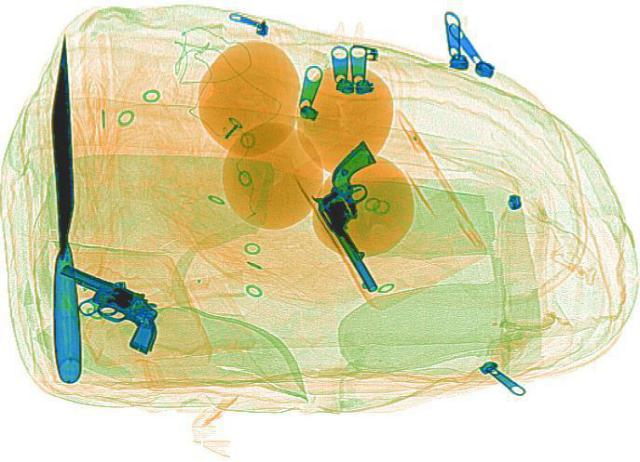Gun: (280, 139, 450, 291), (26, 256, 190, 353)
Knife: (38, 32, 82, 380)
